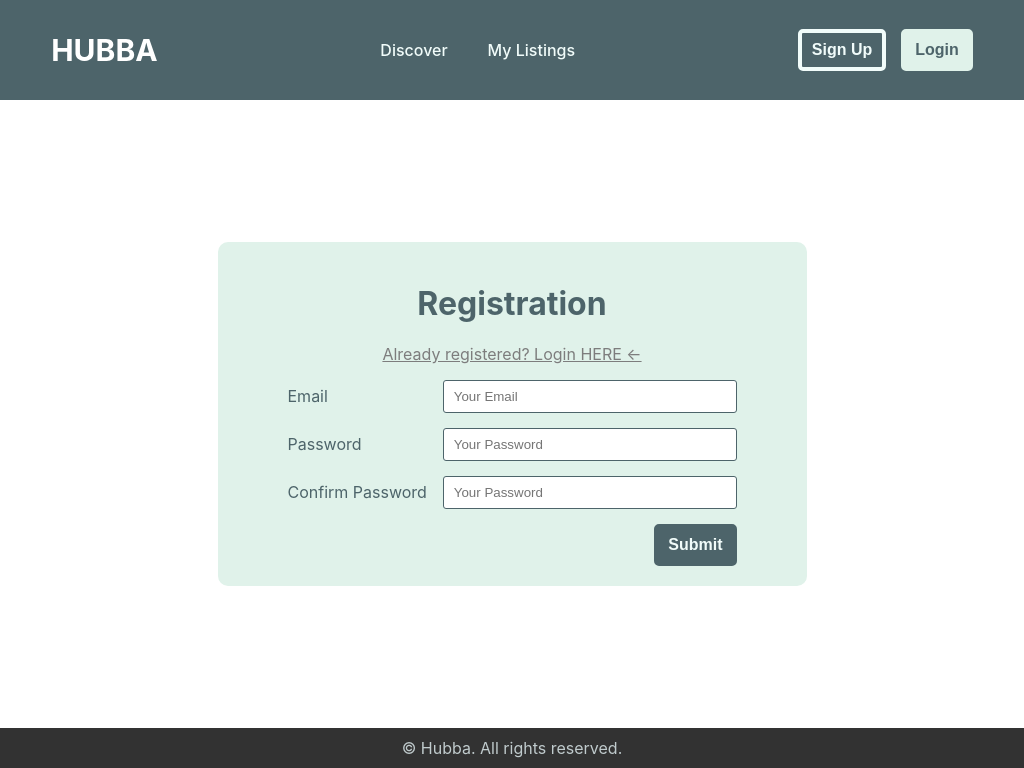
registration failed cases › empty email input
The width and height of the screenshot is (1024, 768).
Type "12345678" into the 1st password field with placeholder "Your Password". click: [590, 445]
box: [443, 428, 737, 461]
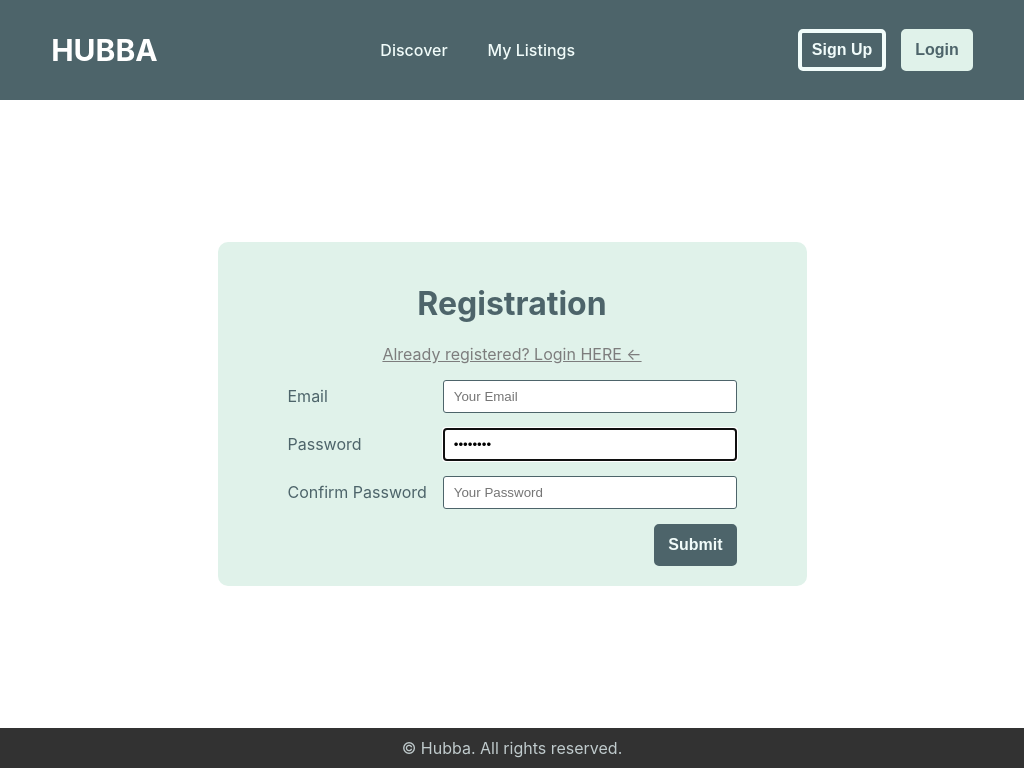
Type "12345678" into the password field with id "confirm-password". click: [590, 493]
box: [443, 476, 737, 509]
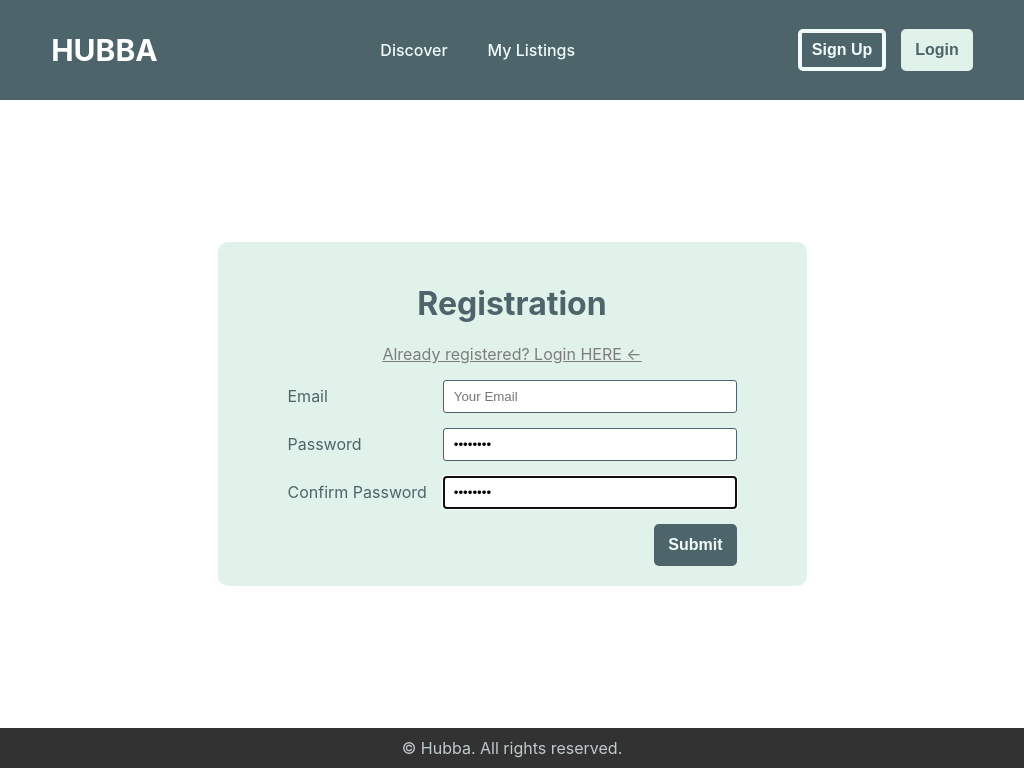
Click the button "Submit". click: [695, 545]
box: [654, 524, 736, 566]
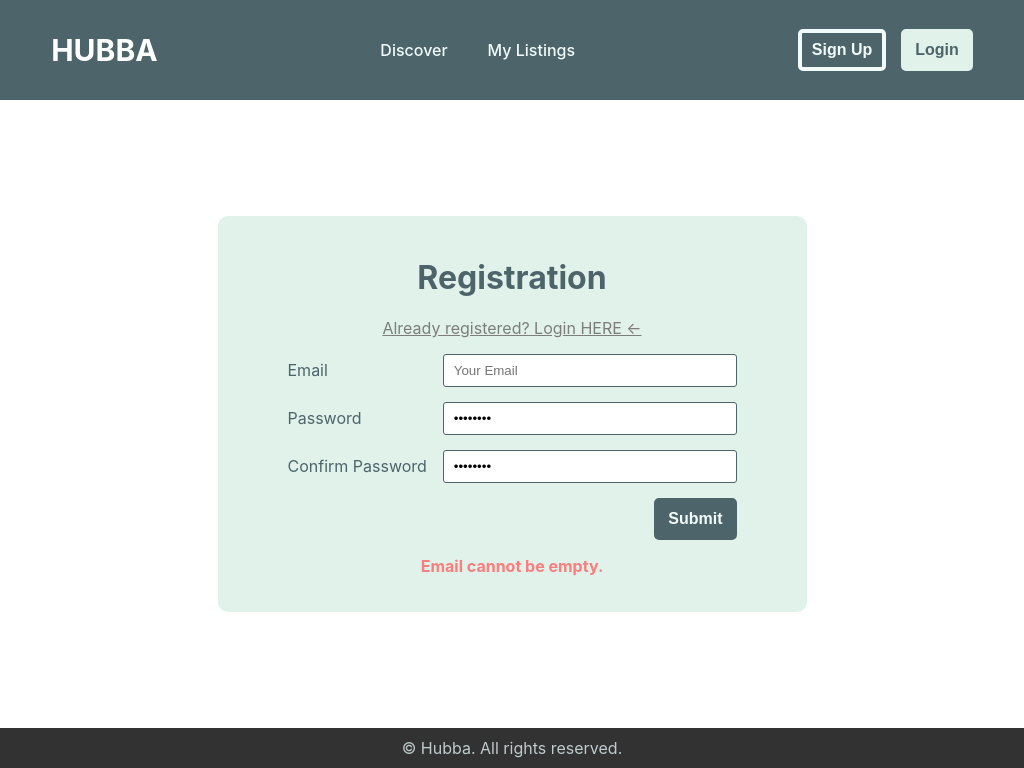
Check: the text "Email cannot be empty." is shown, box [421, 556, 603, 576]
